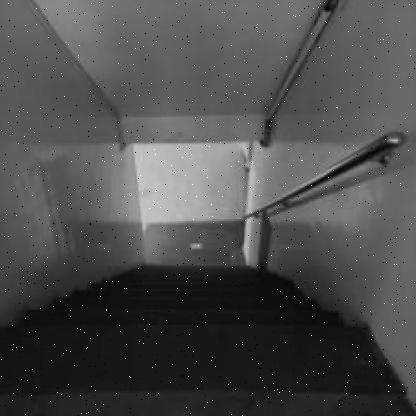stair_down: (68, 244, 313, 368)
